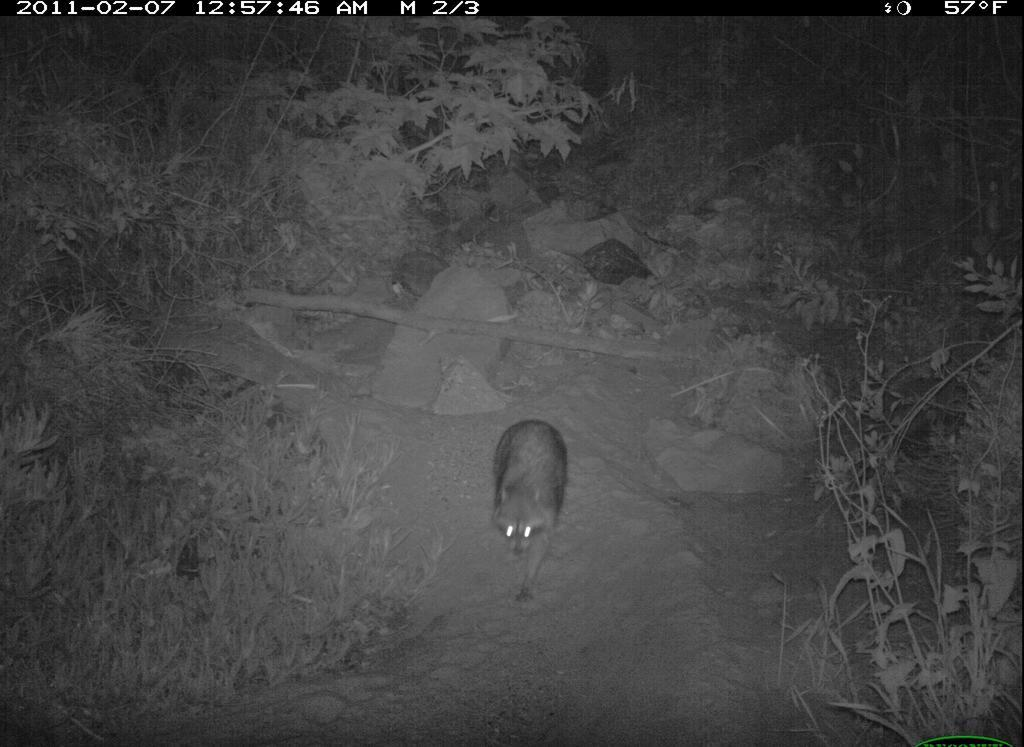raccoon: (482, 415, 579, 616)
